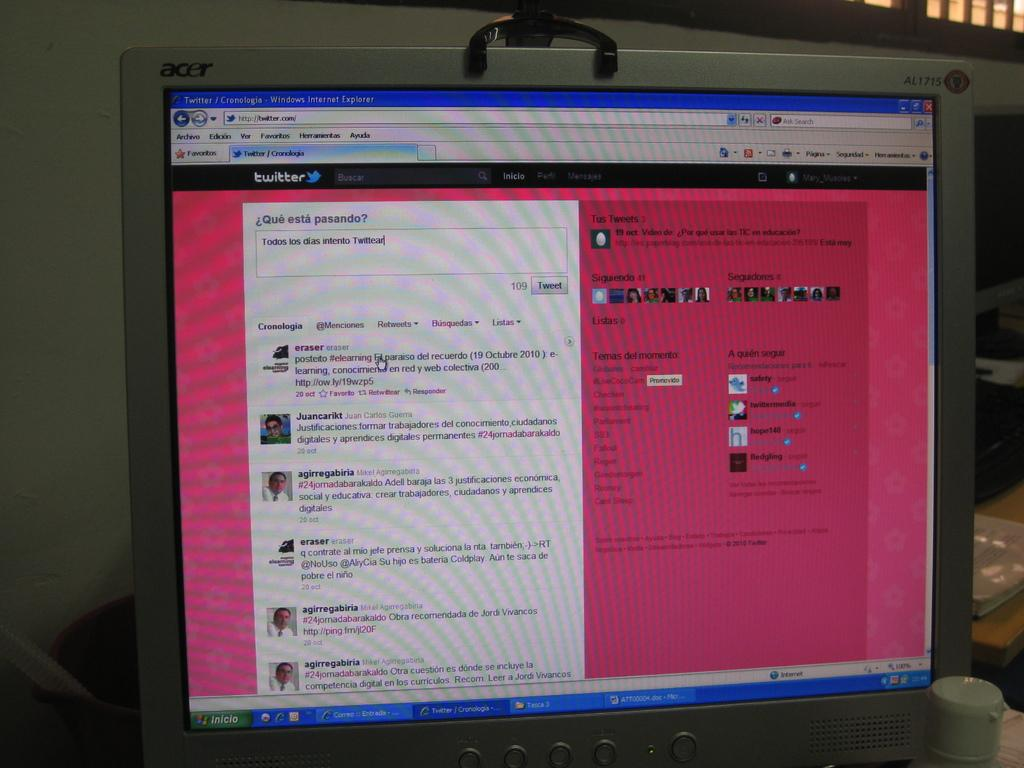Computer-monitor: (129, 17, 995, 768)
